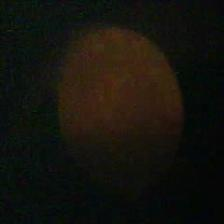fertile: (54, 25, 185, 189)
